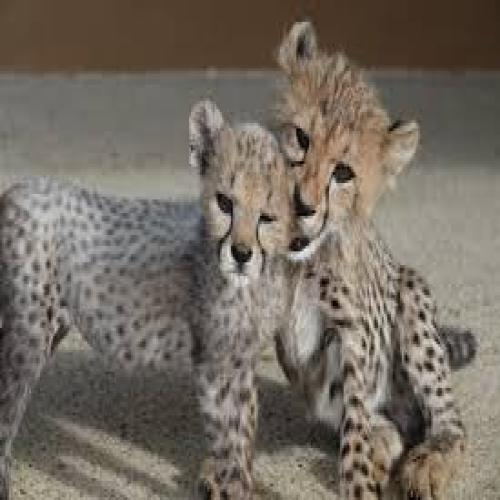cheetah-endangered: (0, 99, 294, 491), (275, 17, 476, 500)
